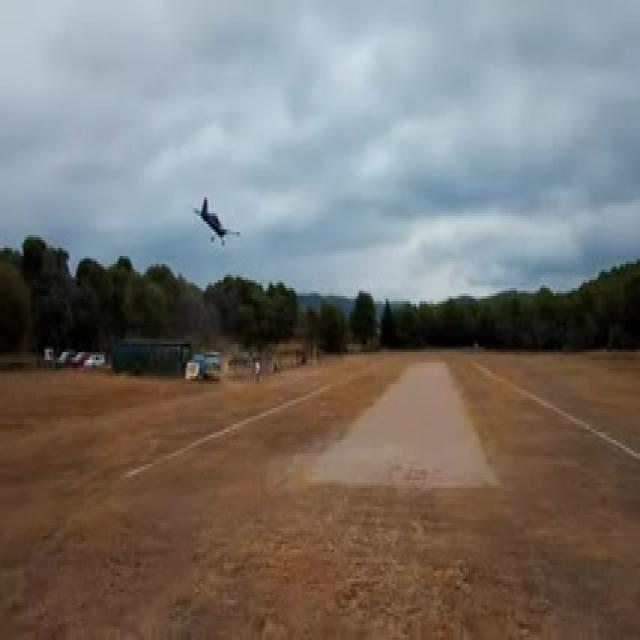iha: (191, 194, 242, 250)
